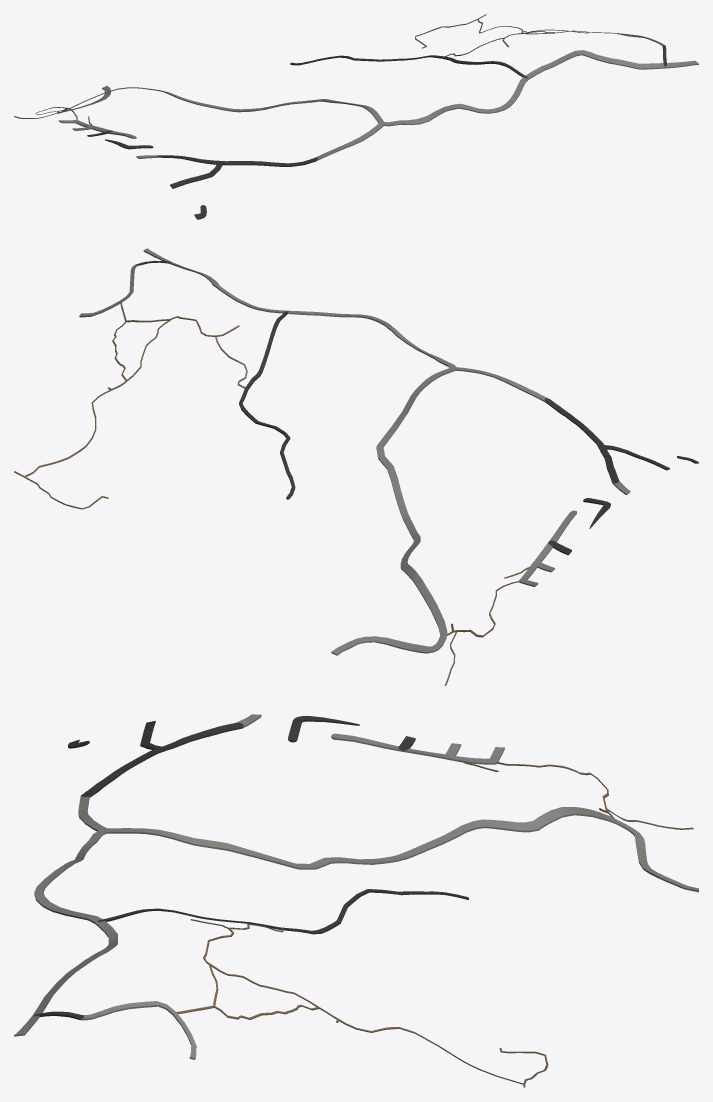
The picture shows the model from 3 angles, top to bottom: view 1: azimuth 30°, elevation 25°; view 2: azimuth 150°, elevation 25°; view 3: azimuth 270°, elevation 25°; orthographic projection. The views are drawn at different scales.
Bounding box in the file's own units: 587 × 127 × 458.
